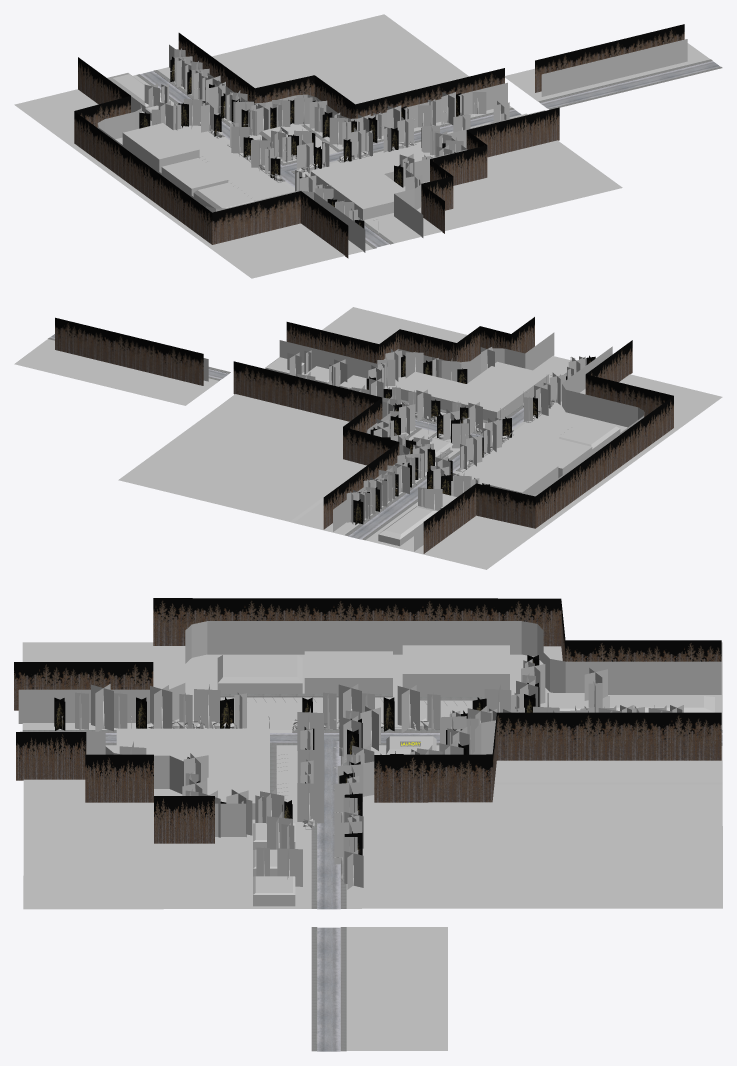
The model's file is Laundry.dae.
3 views of the same model, one above another, from view 1: azimuth 30°, elevation 25°; view 2: azimuth 150°, elevation 25°; view 3: azimuth 270°, elevation 25° (orthographic). The views are drawn at different scales.
Visible parts, largest first — view 1: Terrain, Background_01, Terrain_01, Terrain_02, Background_02, Background, Background_01_001.001, building_002, Trees_03, Background.001, Trees_01, building_04 (+24 smaller); view 2: Terrain, Background_01, Terrain_01, Background, Background_02, Background.001, Terrain.002, building_002, Terrain_02, Background_01_02, Trees_03, Background_01_01 (+20 smaller); view 3: Terrain, Terrain_02, Background_01_01, Background_01, Background, Terrain.002, Terrain_01, Background_02, Trees_08, building_04, building_002, building_001 (+26 smaller).
Boxes of the visible parts, bbox=[...] form: Terrain: bbox=[140, 14, 521, 247]; Background_01: bbox=[74, 57, 348, 258]; Terrain_01: bbox=[14, 75, 373, 278]; Terrain_02: bbox=[302, 140, 622, 243]; Background_02: bbox=[421, 107, 559, 233]; Background: bbox=[178, 33, 504, 118]; Background_01_001.001: bbox=[541, 39, 687, 96]; building_002: bbox=[310, 158, 405, 220]; Trees_03: bbox=[170, 48, 253, 126]; Background.001: bbox=[535, 24, 684, 92]; Trees_01: bbox=[348, 92, 486, 142]; building_04: bbox=[122, 123, 199, 173]; Terrain: bbox=[118, 365, 586, 539]; Background_01: bbox=[423, 340, 673, 553]; Terrain_01: bbox=[365, 374, 722, 569]; Background: bbox=[233, 361, 399, 529]; Background_02: bbox=[286, 317, 534, 363]; Background.001: bbox=[55, 317, 203, 385]; Terrain.002: bbox=[14, 339, 218, 405]; building_002: bbox=[445, 361, 548, 421]; Terrain_02: bbox=[301, 307, 571, 428]; Background_01_02: bbox=[279, 332, 554, 383]; Trees_03: bbox=[346, 445, 427, 524]; Background_01_01: bbox=[414, 346, 644, 551]; Terrain: bbox=[105, 733, 722, 909]; Terrain_02: bbox=[23, 745, 311, 909]; Background_01_01: bbox=[18, 621, 721, 723]; Background_01: bbox=[14, 598, 721, 710]; Background: bbox=[374, 712, 721, 802]; Terrain.002: bbox=[346, 927, 447, 1050]; Terrain_01: bbox=[22, 642, 722, 732]; Background_02: bbox=[16, 732, 214, 843]; Trees_08: bbox=[54, 684, 246, 731]; building_04: bbox=[402, 645, 509, 696]; building_002: bbox=[116, 728, 269, 765]; building_001: bbox=[304, 651, 392, 693].
Bounding box in the file's own units: 321 × 235 × 18.43.
